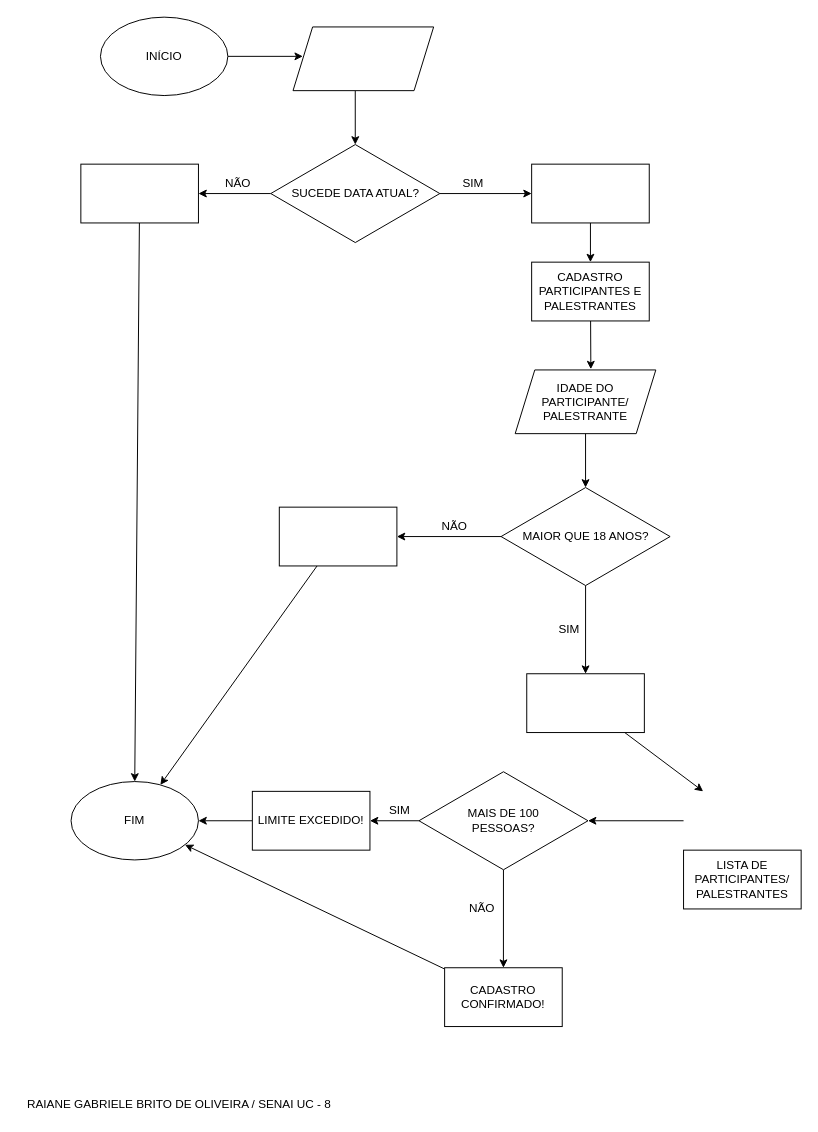
Image size: 818x1132. Some labels were removed from this diagram. The shapes that lost their labels are listed below. From the top down, each one's box as (x1, y1, x2, y2) in pixels, then its label:
(292, 26, 434, 91): DATA DO EVENTO
(80, 163, 198, 223): DATA INVÁLIDA!
(531, 163, 649, 223): EVENTO VÁLIDO, PROSSIGA...
(278, 506, 397, 566): VOCÊ PRECISA SER DE MAIOR
(526, 673, 644, 733): OK! CONTINUE SEU CADASTRO...
